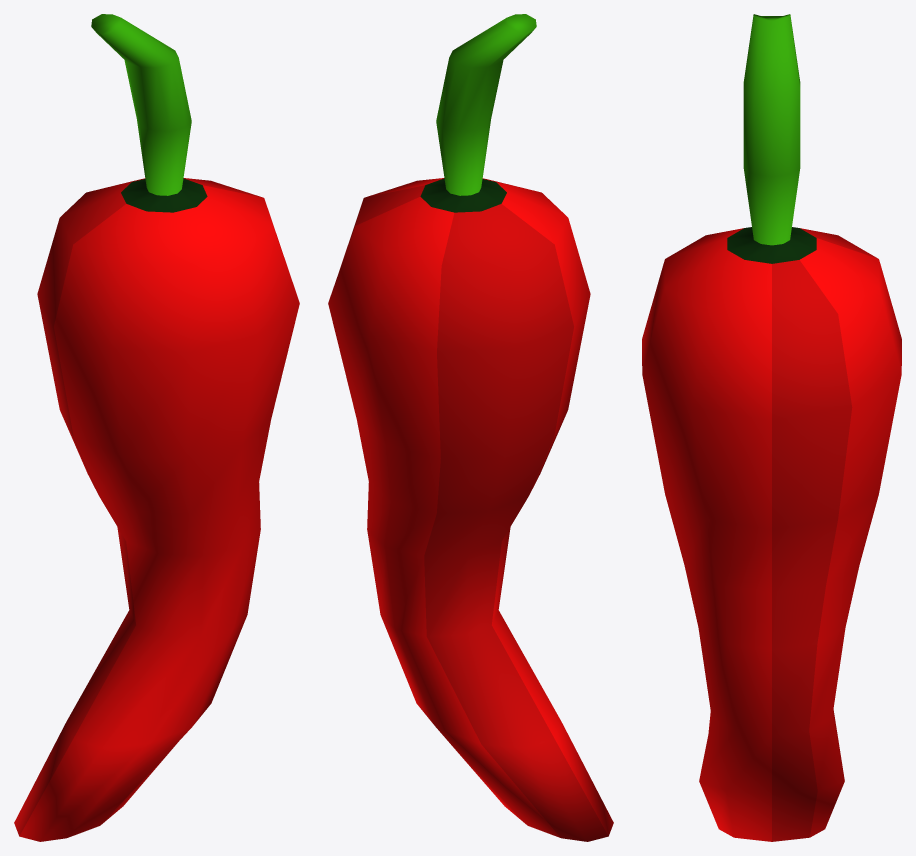
The model's file is CHILI.FBX.
3 views of the same model, side by side, from view 1: azimuth 30°, elevation 25°; view 2: azimuth 150°, elevation 25°; view 3: azimuth 270°, elevation 25° (orthographic). The views are drawn at different scales.
Parts seen in each view (by area): view 1: Cylinder001; view 2: Cylinder001; view 3: Cylinder001.
Boxes of the visible parts, x1,y1,x2,y2 form: Cylinder001: (14,14,299,841); Cylinder001: (328,14,613,841); Cylinder001: (642,14,901,841).
Size of the model in its own units: 12.3 by 34.7 by 9.63.
